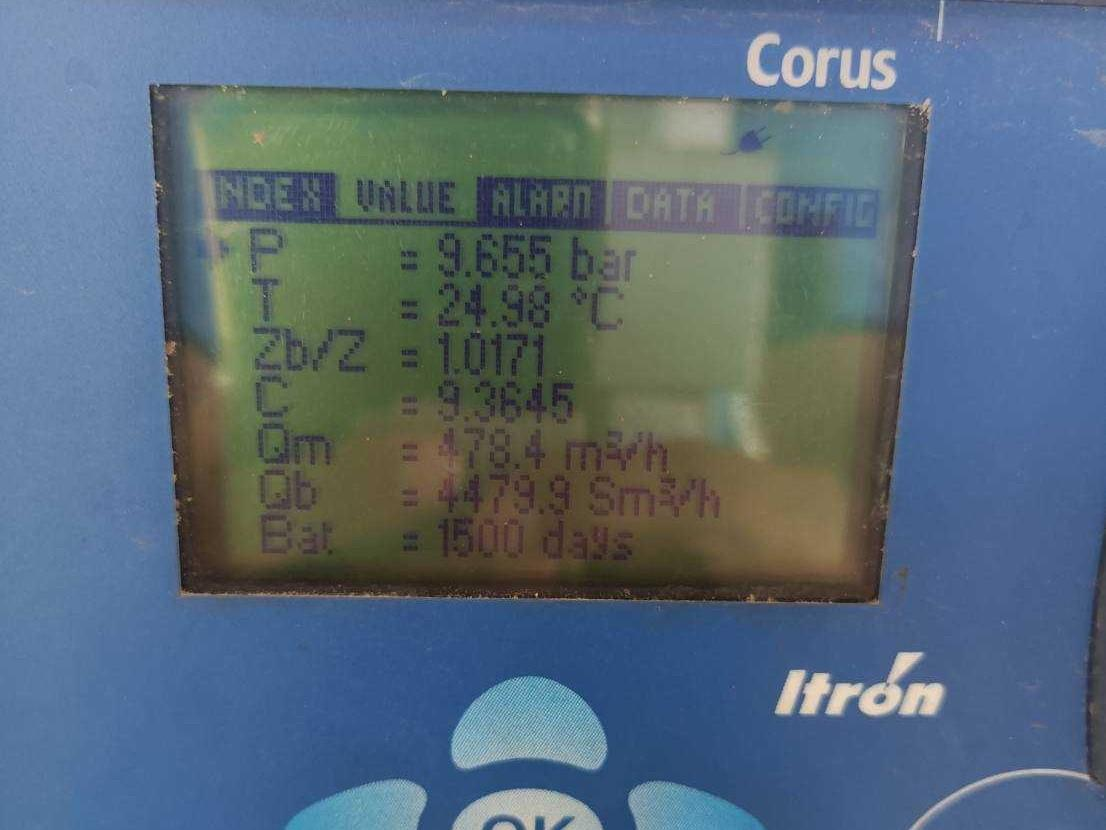digital_screen: (145, 86, 927, 601)
